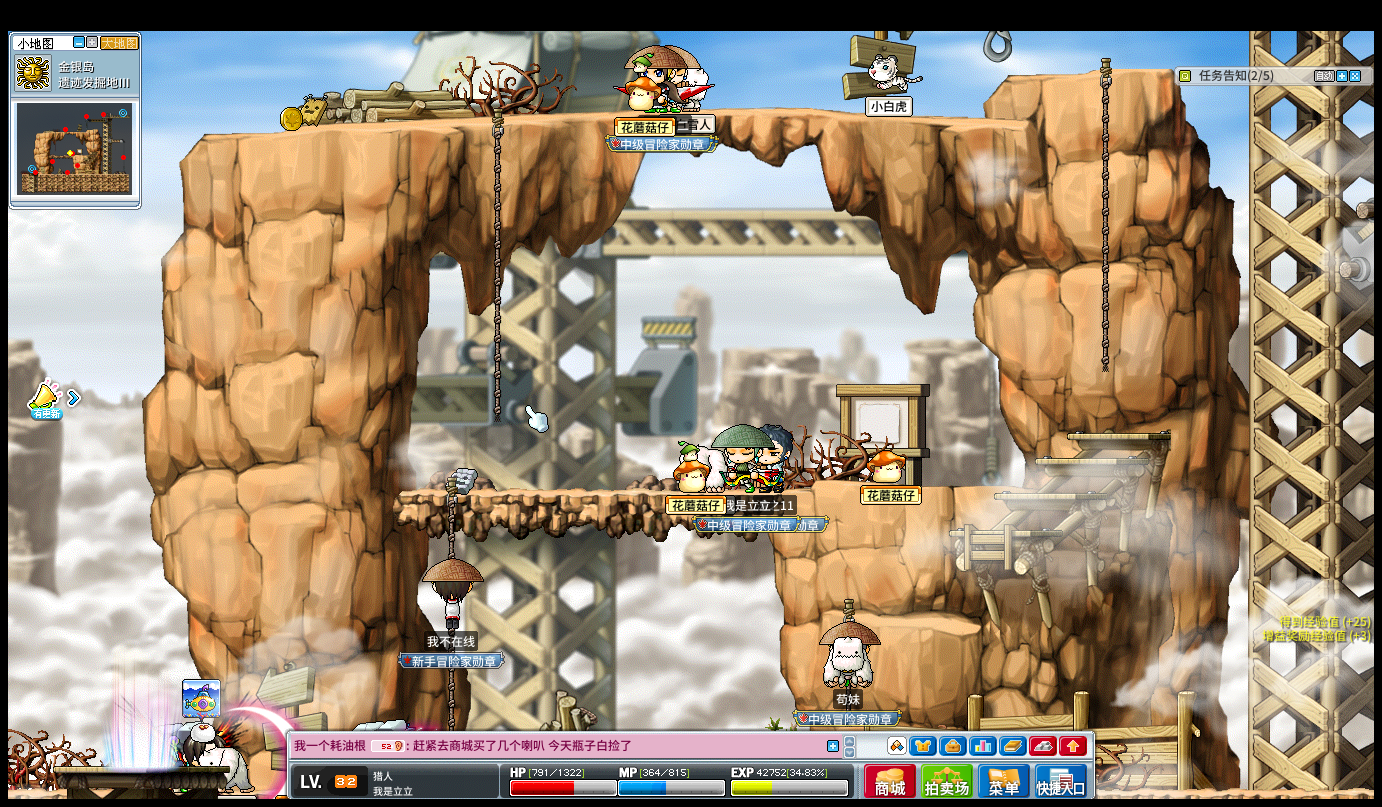floor: (195, 102, 1043, 139), (390, 488, 780, 499), (874, 613, 982, 634), (1001, 65, 1173, 77), (1066, 429, 1172, 441), (906, 482, 1033, 491), (949, 528, 1060, 537), (1032, 456, 1146, 464), (995, 492, 1108, 500)
rope: (1096, 55, 1112, 379), (491, 103, 502, 421), (444, 477, 458, 559)
